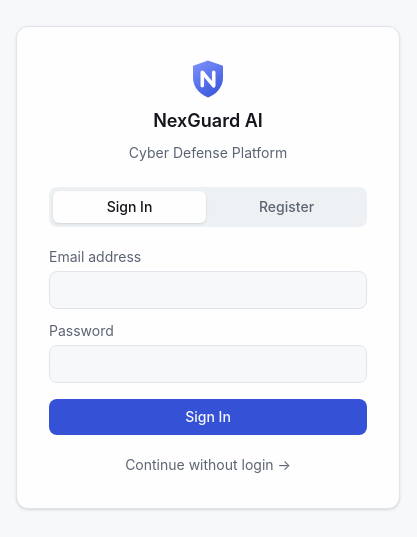
it: the register tab tells the user the 12-character minimum
Click the tab "Register".
click(286, 206)  # box left=210, top=190, right=363, bottom=222
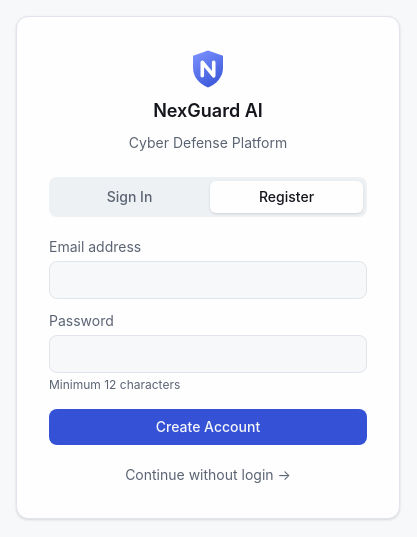
Result: the text "Minimum 12 characters" is shown at left=49, top=376, right=180, bottom=392
